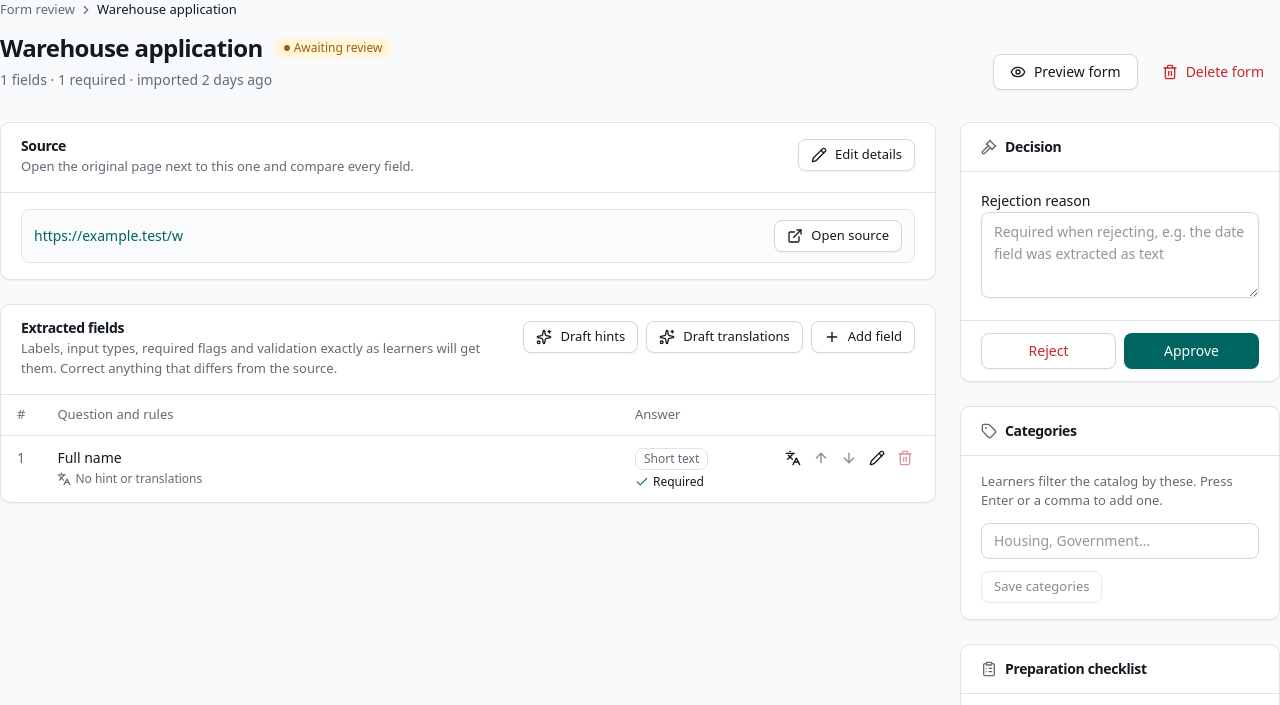
AI drafts › drafts translations separately, into the chosen languages
Click the button "Draft translations". click: (724, 337)
box: [646,321,803,353]
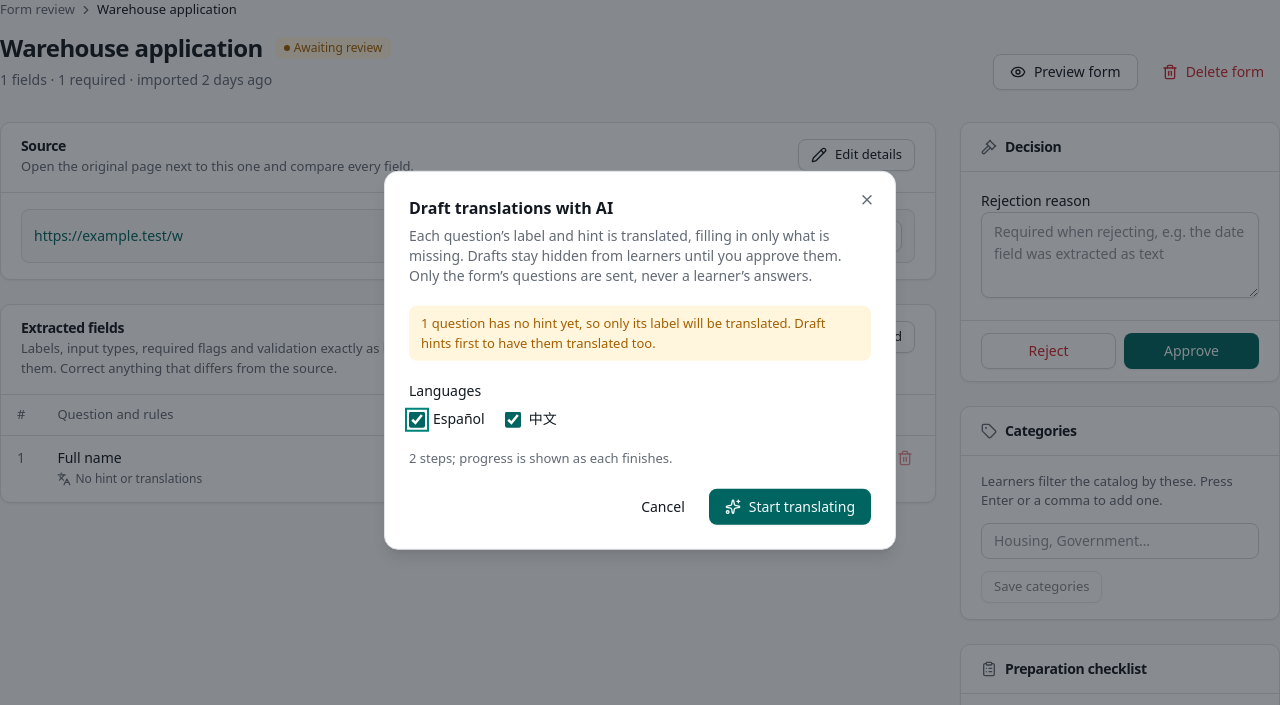
Expected: the text "1 question has no hint yet" is shown, [409,306,871,361]
Click the checkbox labelled "中文". click: (513, 420)
box: [505,412,521,428]
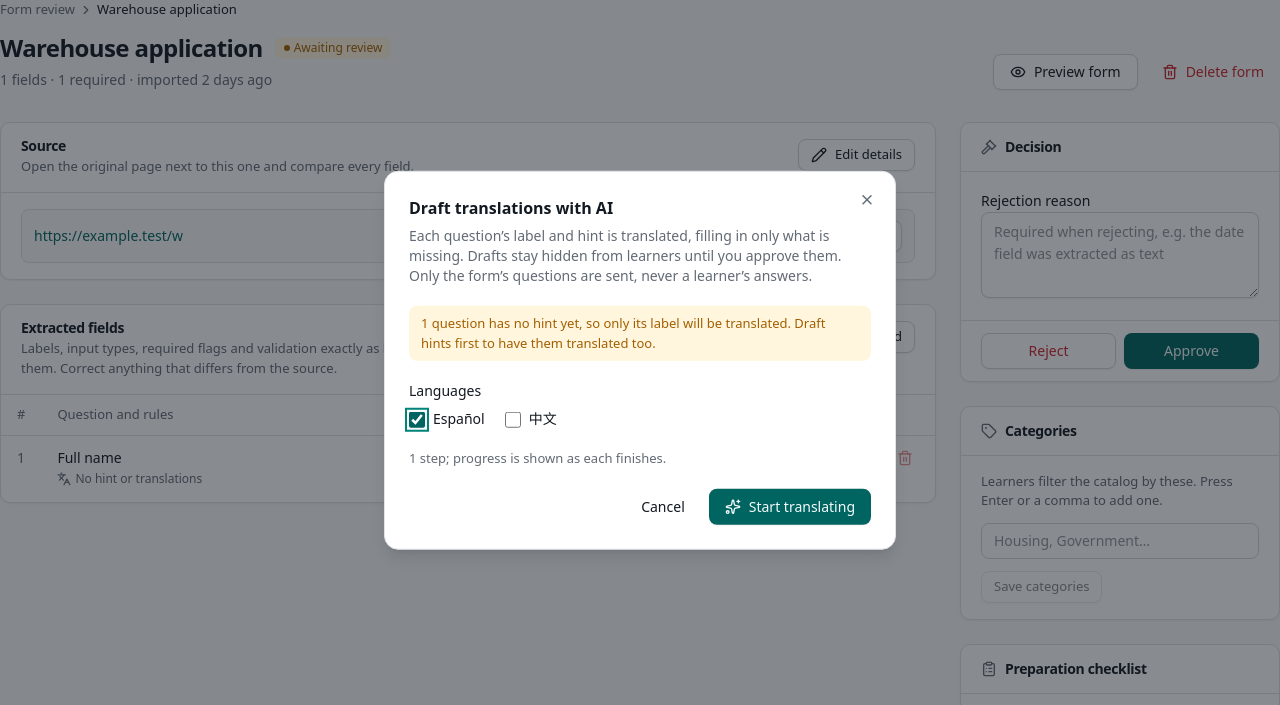
Expected: the text "1 step; progress is shown as each finishes." is shown, [409,449,666,467]
Click the button "Start translating". click: (790, 506)
box: [709,488,871,524]
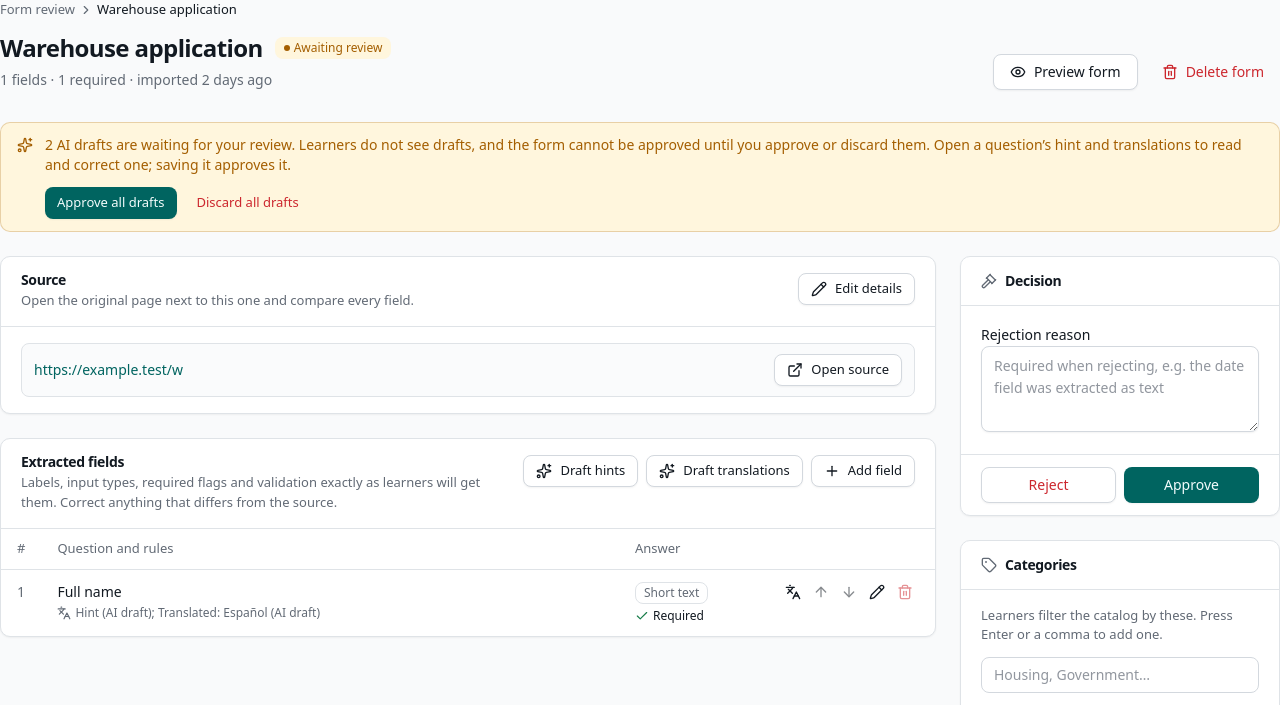
Expected: the text "2 AI drafts are waiting for your review." is shown, [45,134,295,154]
